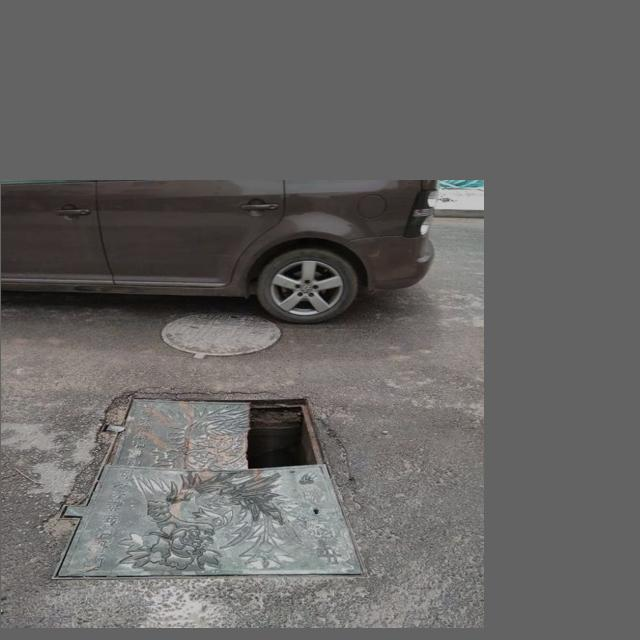broke: (35, 378, 379, 593)
